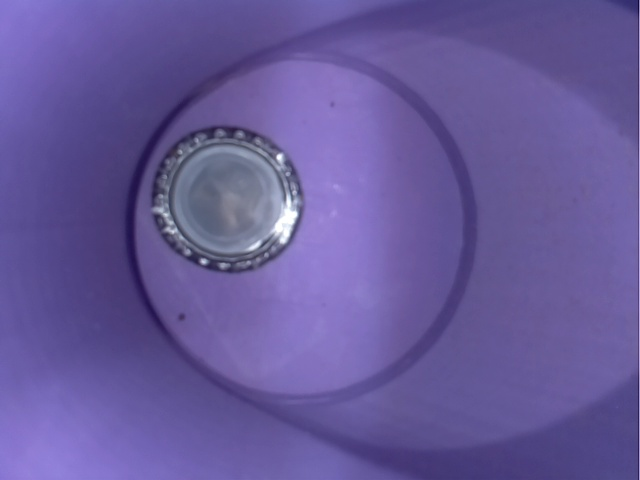capsule: (133, 115, 321, 277)
